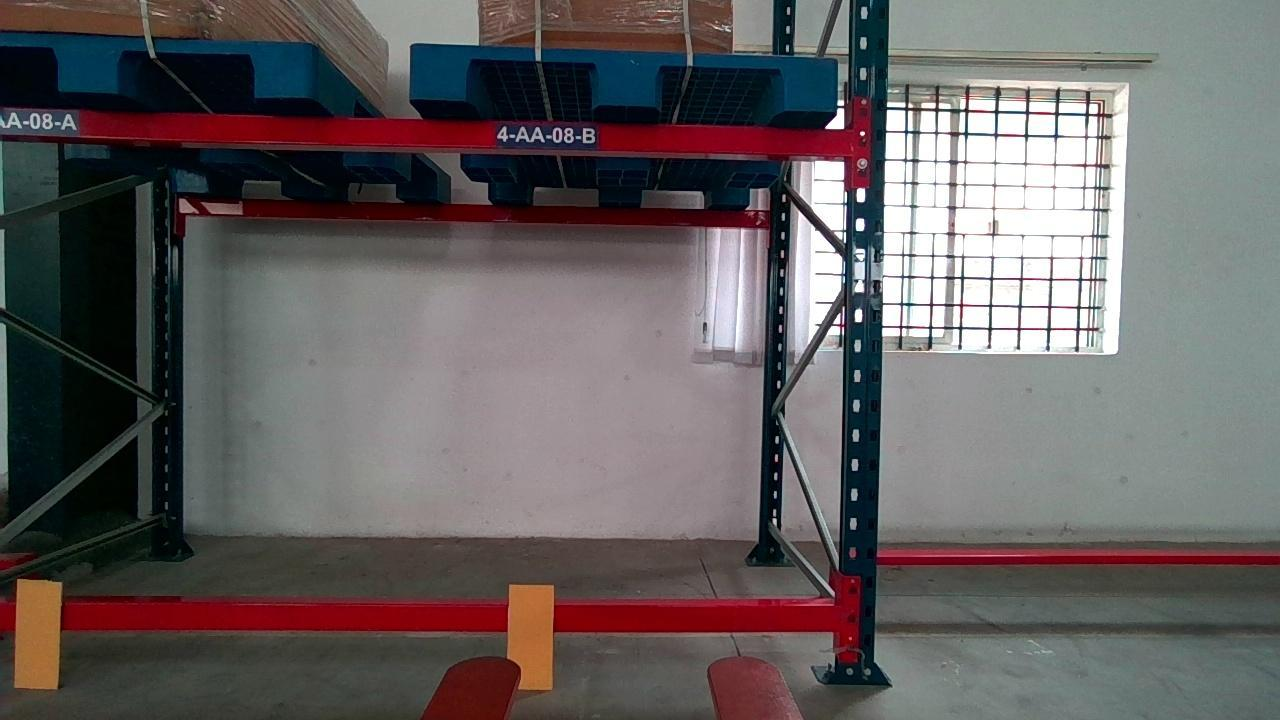h_rack: (7, 106, 861, 157), (2, 600, 838, 633)
orange_strip: (12, 579, 71, 690), (506, 579, 561, 694)
small_pallet: (413, 45, 838, 116), (1, 31, 315, 99)
